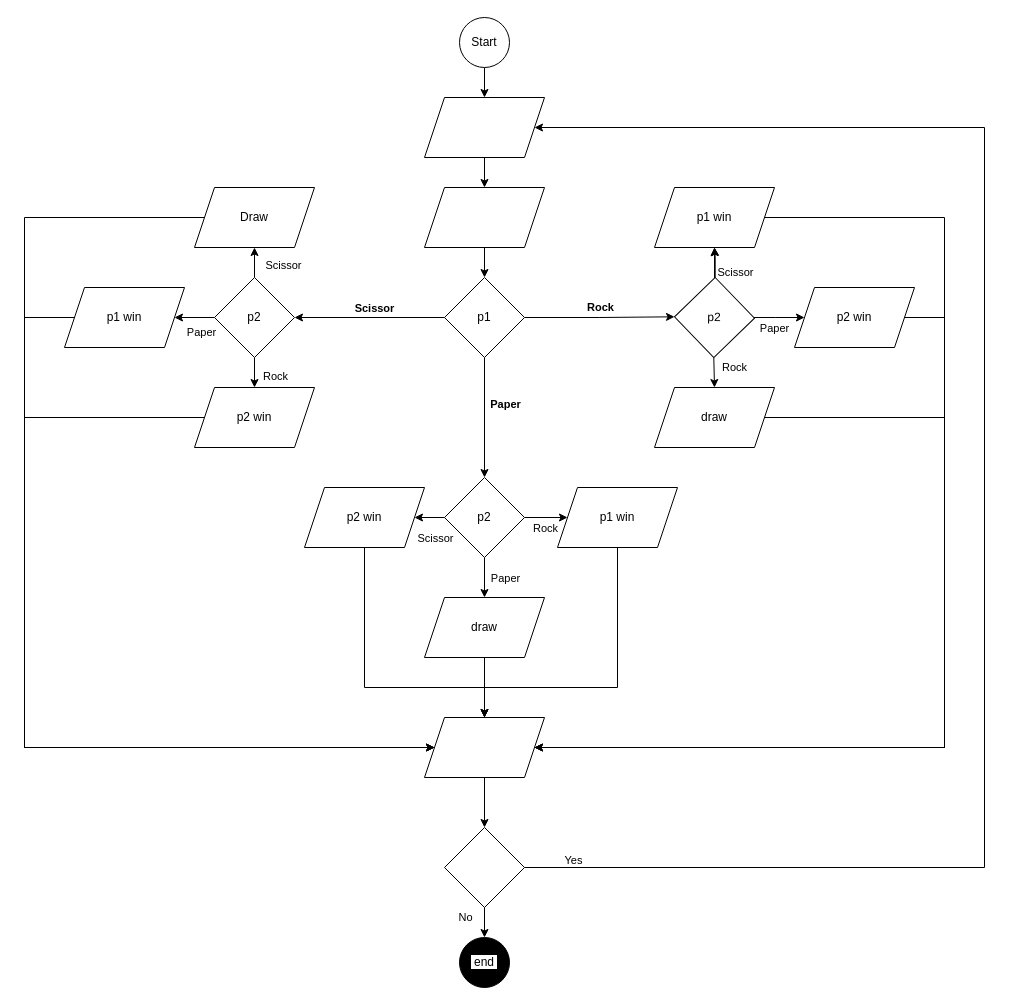
The diagram is 1010 pixels wide and 1005 high, and some of its shapes have lost their labels. The shapes that lost their labels are listed below. From the top down, each one's centre as x and y in pixels, then its label:
pixel 484 127: input p1
pixel 484 217: input p2
pixel 484 747: Play Again?
pixel 484 867: input result
